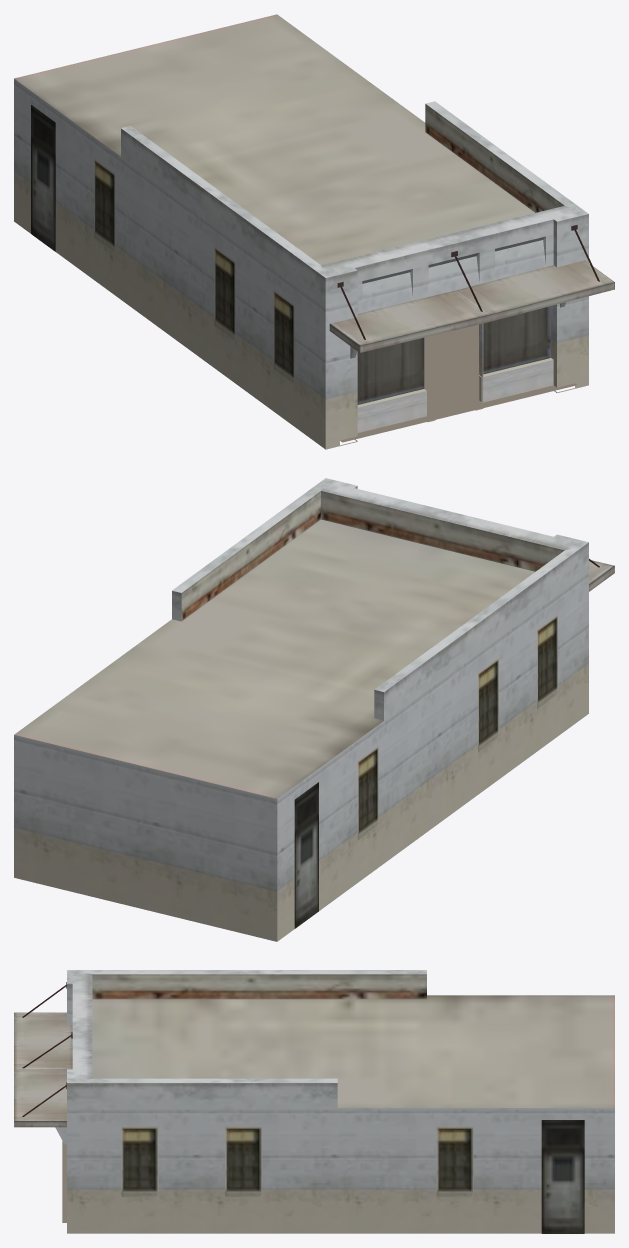
The model's file is rural-store-3.access-v2.lod1.glb.
The picture shows the model from 3 angles, top to bottom: view 1: azimuth 30°, elevation 25°; view 2: azimuth 150°, elevation 25°; view 3: azimuth 270°, elevation 25°; orthographic projection. The views are drawn at different scales.
Visible parts, largest first — view 1: Rural_StoreSmall_3_Rural_Facade_FLR_2_0, Rural_StoreSmall_3_Rural_Midcity_Walls_FLR_1_0, Walkable floors and stairs; view 2: Rural_StoreSmall_3_Rural_Facade_FLR_2_0, Rural_StoreSmall_3_Rural_Midcity_Walls_FLR_1_0; view 3: Rural_StoreSmall_3_Rural_Facade_FLR_2_0, Rural_StoreSmall_3_Rural_Midcity_Walls_FLR_1_0, Walkable floors and stairs.
Part boxes in pixels (x1=…): Rural_StoreSmall_3_Rural_Facade_FLR_2_0: x1=14, y1=14, x2=614, y2=404; Rural_StoreSmall_3_Rural_Midcity_Walls_FLR_1_0: x1=14, y1=79, x2=588, y2=449; Walkable floors and stairs: x1=340, y1=324, x2=577, y2=442; Rural_StoreSmall_3_Rural_Facade_FLR_2_0: x1=14, y1=491, x2=614, y2=928; Rural_StoreSmall_3_Rural_Midcity_Walls_FLR_1_0: x1=14, y1=478, x2=588, y2=941; Rural_StoreSmall_3_Rural_Facade_FLR_2_0: x1=14, y1=974, x2=614, y2=1233; Rural_StoreSmall_3_Rural_Midcity_Walls_FLR_1_0: x1=55, y1=970, x2=614, y2=1233; Walkable floors and stairs: x1=62, y1=1141, x2=66, y2=1222.
Bounding box in the file's own units: 6.06 × 3.76 × 13.59.
3 materials, 2 textured.
